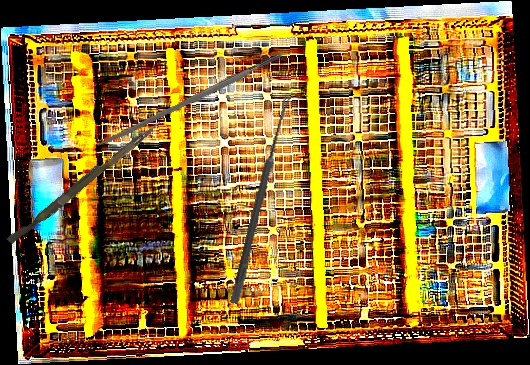Pusher: (6, 114, 163, 249)
Scalpel Handle: (95, 51, 286, 150)
Surgical Spoon: (229, 95, 292, 305)
